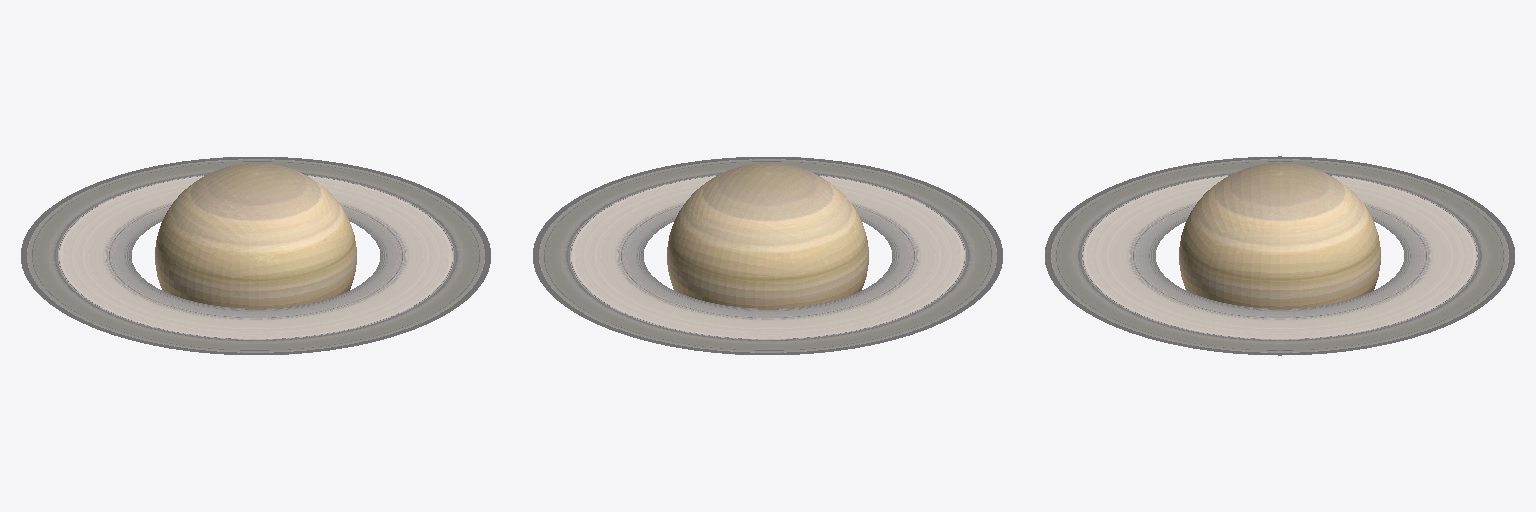
3 views of the same model, side by side, from view 1: azimuth 30°, elevation 25°; view 2: azimuth 150°, elevation 25°; view 3: azimuth 270°, elevation 25° (orthographic).
Parts seen in each view (by area): view 1: Object.2, Object.1; view 2: Object.2, Object.1; view 3: Object.2, Object.1.
Boxes of the visible parts, x1,y1,x2,y2 form: Object.2: [21, 157, 490, 354]; Object.1: [155, 163, 356, 308]; Object.2: [533, 157, 1002, 354]; Object.1: [667, 163, 868, 308]; Object.2: [1045, 156, 1514, 355]; Object.1: [1179, 163, 1380, 308].
Bounding box in the file's own units: 23.34 × 9.03 × 23.34.
Materials: 2 (2 with a texture image).